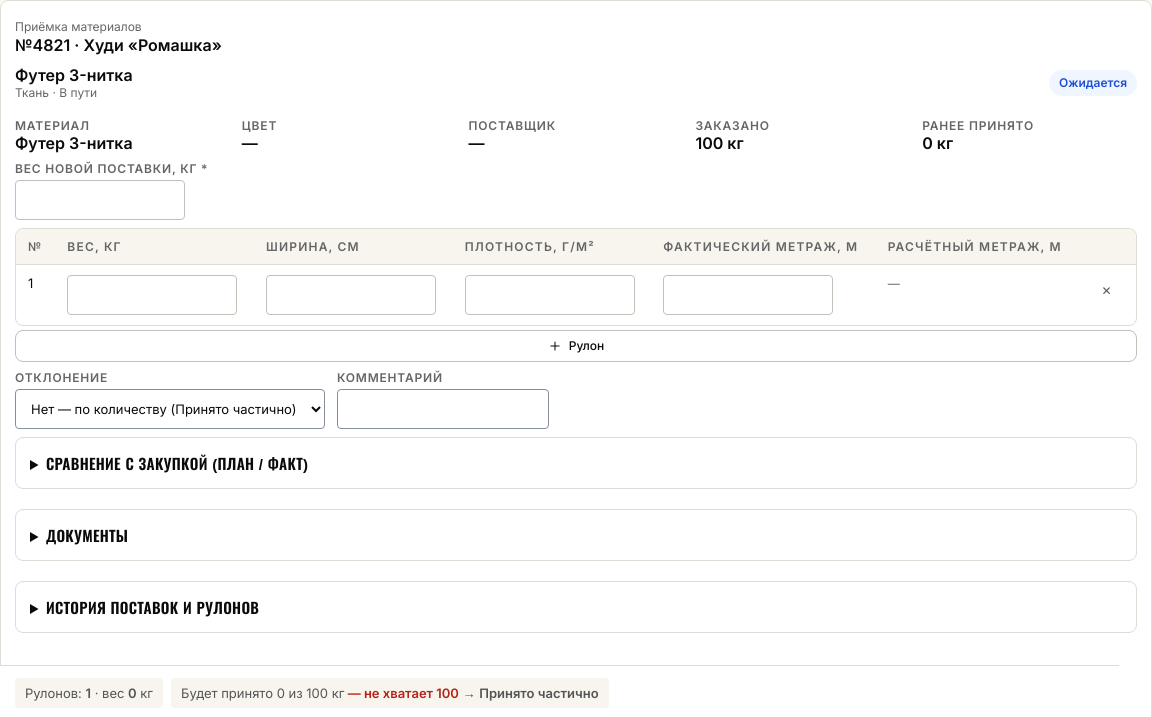
Test: рулоны при приёмке ткани (правка 16.09, п. 5; строками — 05.10, п. 4) › сумма весов не сходится с поставкой — ошибка, не сохраняется, расхождение названо числом
Step 1. Type "100" into the number field named "Сколько пришло сейчас" → (100, 200), box x1=15 y1=180 x2=185 y2=220
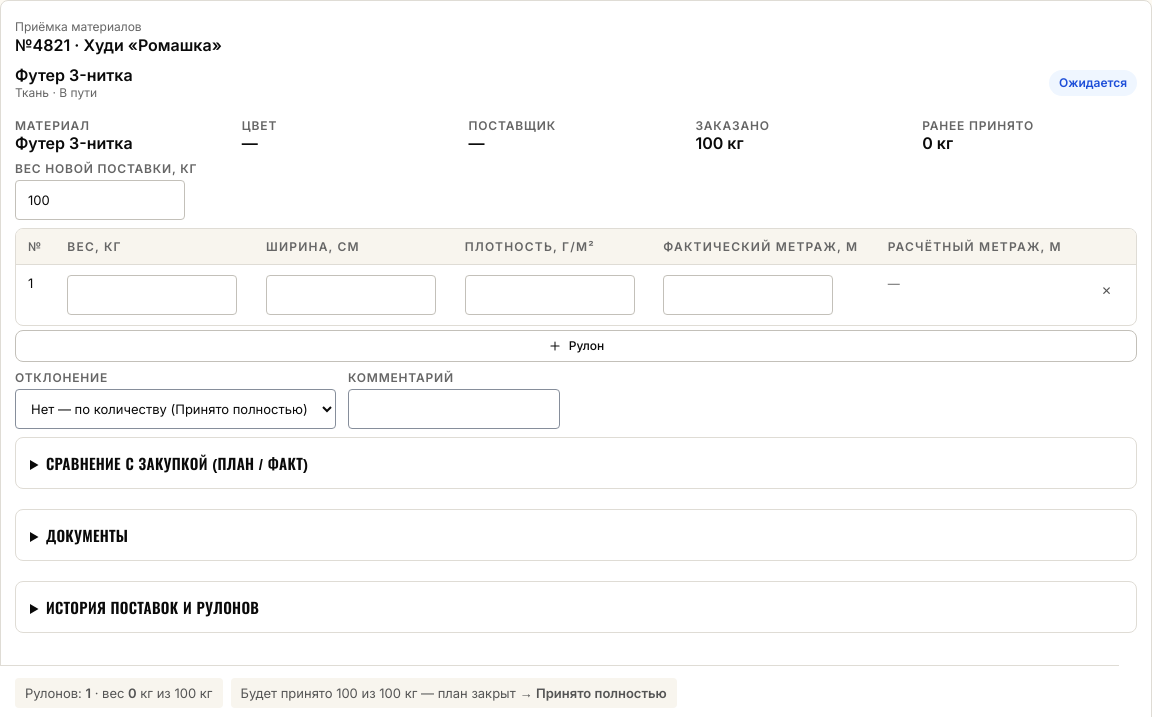
Step 2. Click the button with aria-label "Добавить строку рулона" → (576, 346), box x1=15 y1=330 x2=1137 y2=362
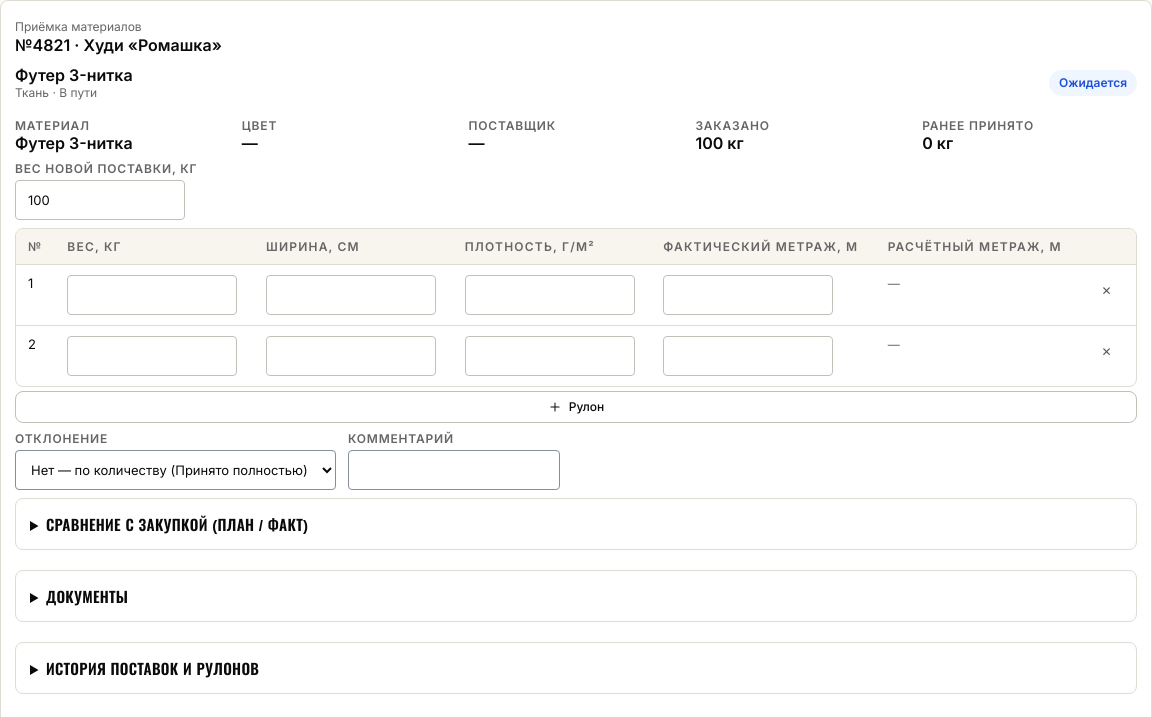
Step 3. Type "50" into the number field named "Вес рулона 1" → (152, 295), box x1=67 y1=275 x2=237 y2=315
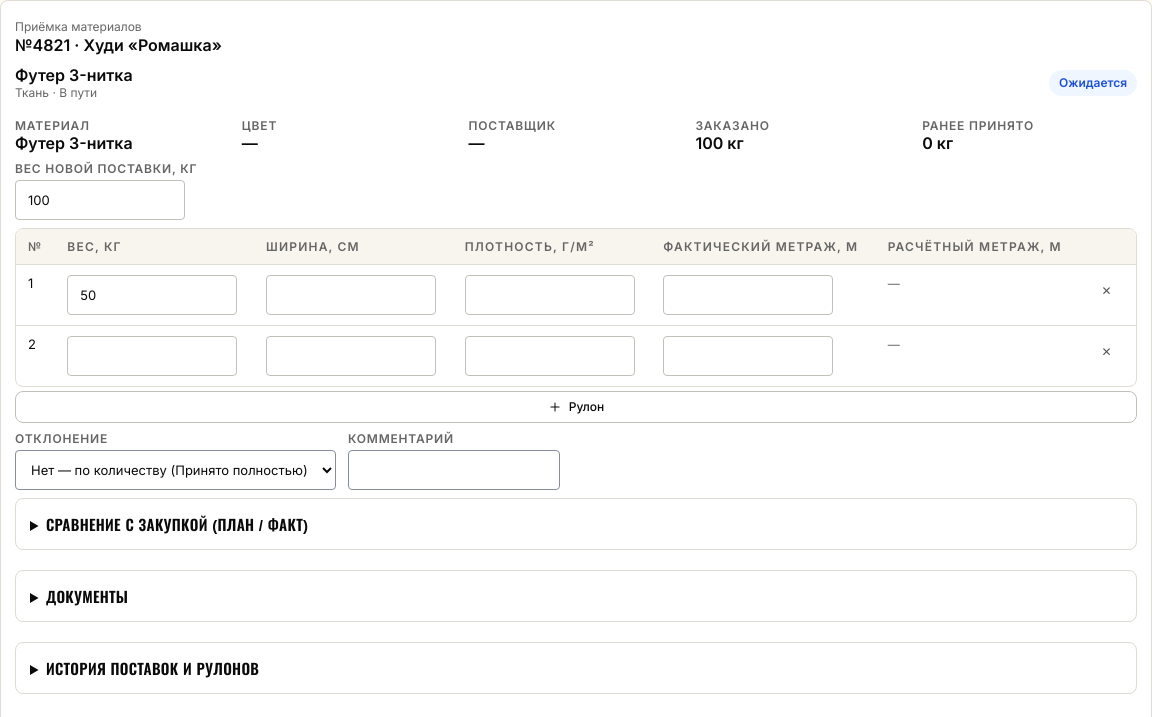
Step 4. Type "45" into the number field named "Вес рулона 2" → (152, 356), box x1=67 y1=336 x2=237 y2=376
(page scrolled)
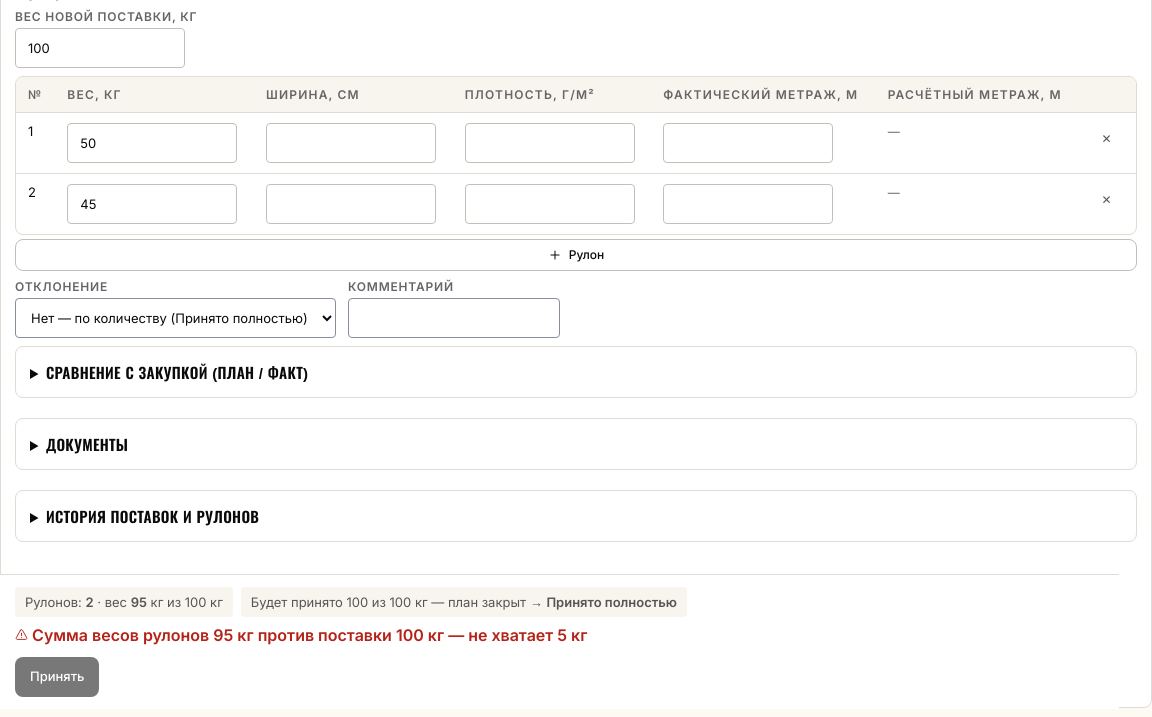
Expected: the button "Принять" is disabled, x1=15 y1=657 x2=100 y2=697
Now the text "не хватает 5" is shown, box x1=32 y1=625 x2=587 y2=645
